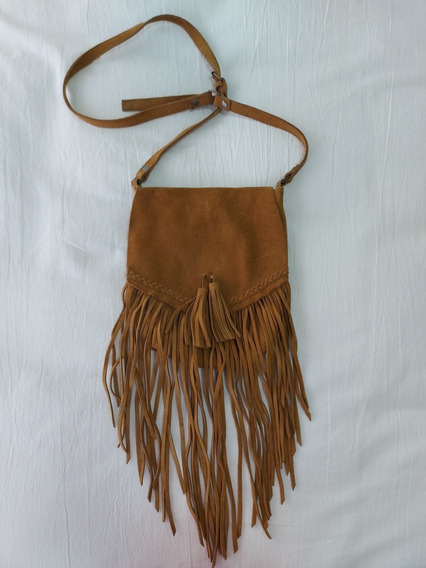cartera: (122, 100, 301, 562)
